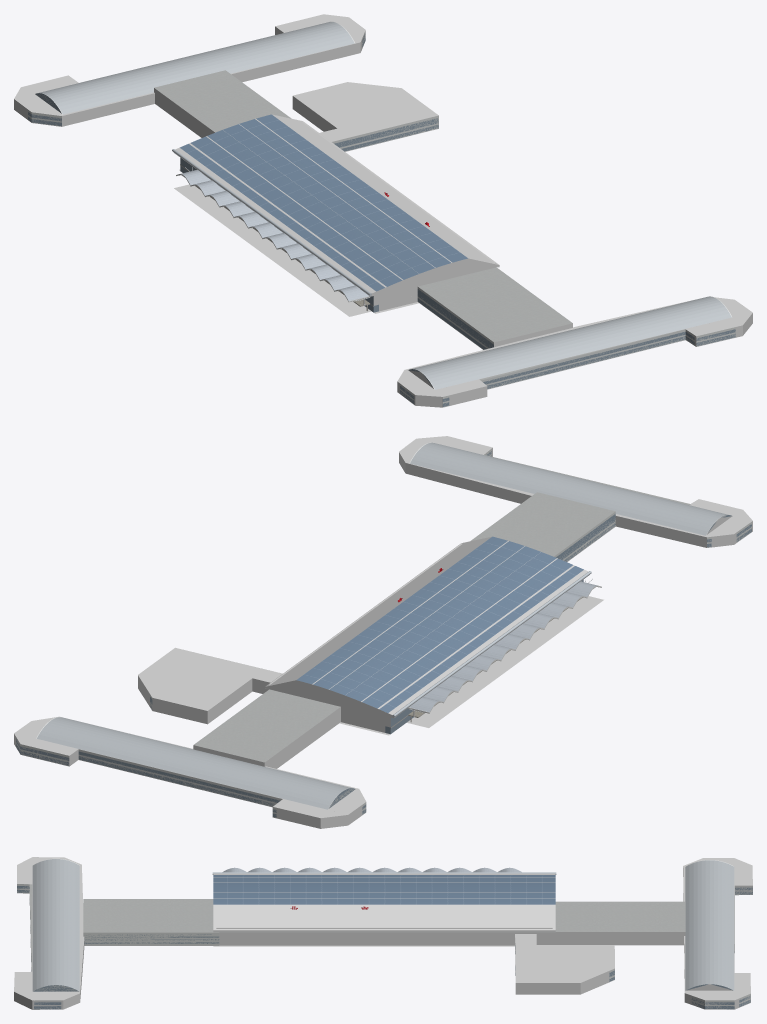
3 views of the same model, one above another, from view 1: azimuth 30°, elevation 25°; view 2: azimuth 150°, elevation 25°; view 3: azimuth 270°, elevation 25° (orthographic). The views are drawn at different scales.
Parts seen in each view (by area): view 1: T2, COL_roof, COL_ne_box, Far, COL_pier_n0, CLEAR_kerb, COL_pier_s0, COL_pier_s1, COL_hall, COL_neck_n, COL_pier_s2; view 2: T2, COL_roof, COL_ne_box, COL_pier_s0, Far, CLEAR_kerb, COL_neck_n, COL_pier_n0, COL_pier_n1, COL_hall, COL_pier_n2; view 3: T2, COL_roof, COL_ne_box, Far, COL_hall, COL_arrivals, COL_neck_n, COL_pier_s0, COL_pier_n0, COL_pier_s2, CLEAR_hall, COL_pier_n2 (+2 smaller).
Part boxes in pixels (bbox=[...]): T2: bbox=[28, 21, 735, 407]; COL_roof: bbox=[174, 114, 499, 296]; COL_ne_box: bbox=[292, 82, 438, 137]; Far: bbox=[28, 33, 735, 406]; COL_pier_n0: bbox=[14, 17, 365, 126]; CLEAR_kerb: bbox=[174, 184, 371, 316]; COL_pier_s0: bbox=[397, 297, 752, 405]; COL_pier_s1: bbox=[415, 379, 487, 407]; COL_hall: bbox=[302, 121, 495, 305]; COL_neck_n: bbox=[154, 88, 214, 137]; COL_pier_s2: bbox=[685, 312, 752, 346]; T2: bbox=[16, 442, 751, 817]; COL_roof: bbox=[265, 536, 589, 718]; COL_ne_box: bbox=[138, 647, 263, 724]; COL_pier_s0: bbox=[399, 438, 752, 547]; Far: bbox=[16, 450, 751, 818]; CLEAR_kerb: bbox=[407, 596, 603, 727]; COL_neck_n: bbox=[193, 707, 340, 768]; COL_pier_n0: bbox=[14, 716, 366, 825]; COL_pier_n1: bbox=[273, 799, 347, 828]; COL_hall: bbox=[268, 543, 462, 727]; COL_pier_n2: bbox=[14, 733, 78, 766]; T2: bbox=[17, 857, 752, 1009]; COL_roof: bbox=[213, 873, 555, 931]; COL_ne_box: bbox=[515, 945, 614, 994]; Far: bbox=[17, 868, 752, 1009]; COL_hall: bbox=[216, 927, 552, 939]; COL_arrivals: bbox=[219, 939, 552, 945]; COL_neck_n: bbox=[552, 932, 685, 945]; COL_pier_s0: bbox=[32, 857, 84, 1009]; COL_pier_n0: bbox=[683, 858, 734, 1004]; COL_pier_s2: bbox=[14, 971, 32, 1009]; CLEAR_hall: bbox=[213, 945, 514, 946]; COL_pier_n2: bbox=[734, 973, 750, 1009].
Size of the model in its own units: 345 by 32.5 by 751.
19 materials, 8 textured.
